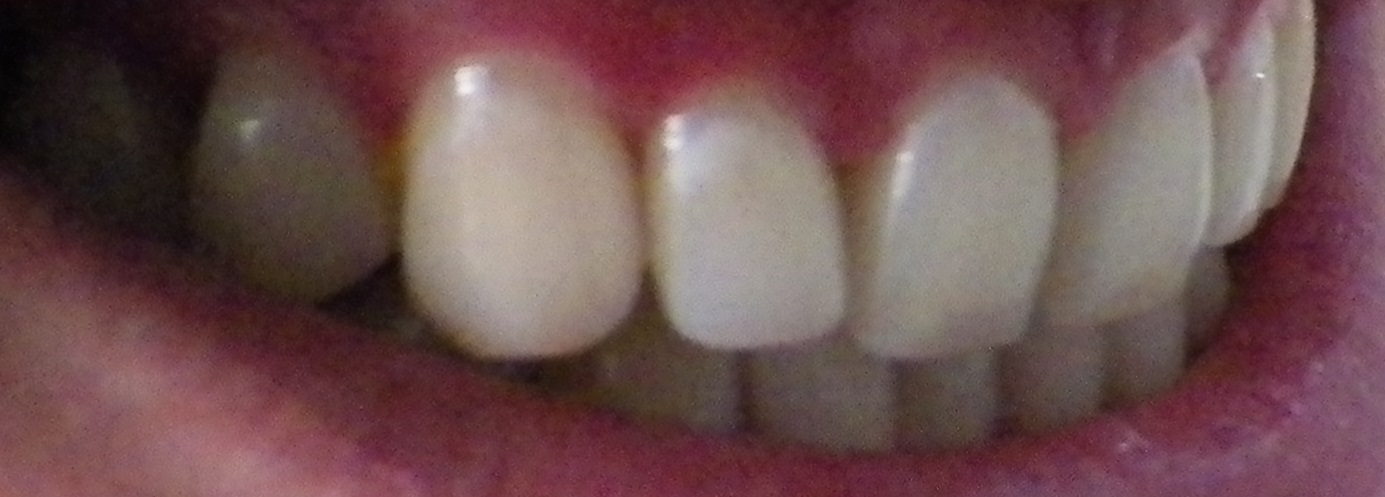boca: (14, 3, 1314, 446)
